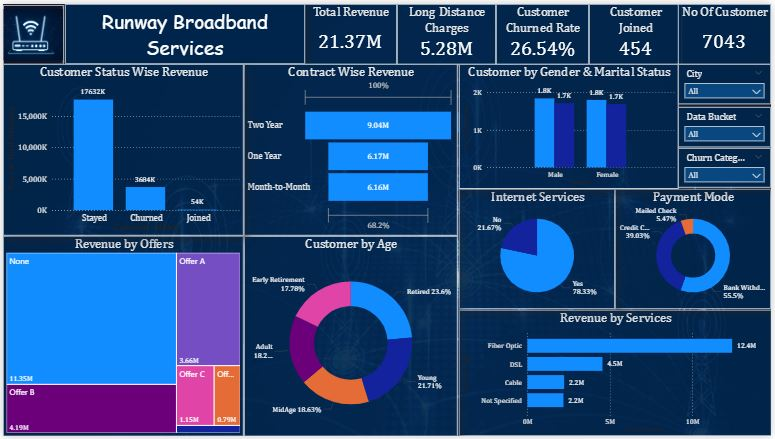

What the dashboard file says about the page in this screenshot:
{"tool":"powerbi","page":{"name":"Sales","canvas":[1280,720],"ordinal":0},"visuals":[{"type":"textbox","box":[102.5,0,400,100],"z":0,"group":"g1"},{"type":"card","title":"Total Revenue","fields":{"Values":["Sum(Original.Total Revenue)"]},"box":[502.3,0,154.5,100.8],"z":0},{"type":"card","title":"Long Distance Charges","fields":{"Values":["Sum(Original.Total Long Distance Charges)"]},"box":[656.8,0,164.6,100.8],"z":1000},{"type":"image","box":[0,1.7,100.8,99.1],"z":1000,"group":"g1"},{"type":"card","title":"Customer Churned Rate","fields":{"Values":["Data.Churned Customer"]},"box":[821.4,0,154.5,100.8],"z":2000},{"type":"card","title":"Customer Joined","fields":{"Values":["Data.New Joined"]},"box":[976,0,154.5,100.8],"z":3000},{"type":"group","id":"g1","title":"Group 1","box":[0,0,502.5,100.8],"z":4000},{"type":"barChart","title":"Revenue by Services","fields":{"Category":["Original.Internet Type"],"Y":["Sum(Original.Total Revenue)"]},"box":[759.3,510,520.7,210],"z":5000},{"type":"donutChart","title":"Payment Mode","fields":{"Category":["Original.Payment Method"],"Y":["CountNonNull(Original.Customer ID)"]},"box":[1019.6,309.1,260.4,199.9],"z":6000},{"type":"card","title":"No Of Customer","fields":{"Values":["Count(Original.Customer ID)"]},"box":[1125.5,0,154.5,100.8],"z":7000},{"type":"pieChart","title":"Internet Services","fields":{"Y":["CountNonNull(Original.Customer ID)"],"Category":["Original.Internet Service"]},"box":[759.3,309.1,260.4,199.9],"z":8000},{"type":"funnel","title":"Contract Wise Revenue","fields":{"Category":["Original.Contract"],"Y":["Sum(Original.Total Revenue)"]},"box":[401.5,100.8,356.1,285.6],"z":9000},{"type":"treemap","title":"Revenue by Offers","fields":{"Values":["Sum(Original.Total Revenue)"],"Group":["Original.Offer"]},"box":[0,386.4,401.5,334.3],"z":10000},{"type":"donutChart","title":"Customer by Age","fields":{"Category":["Original.AgeGroup"],"Y":["CountNonNull(Original.Customer ID)"]},"box":[401.5,386.4,356.1,334.3],"z":11000},{"type":"clusteredColumnChart","title":"Customer by Gender & Marital Status","fields":{"Category":["Original.Gender"],"Y":["CountNonNull(Original.Customer ID)"],"Series":["Original.Married"]},"box":[759.3,100.8,366.2,208.3],"z":12000},{"type":"slicer","fields":{"Values":["Original.City"]},"box":[1125.5,100.8,154.5,67.2],"z":13000},{"type":"slicer","fields":{"Values":["Original.Data Bucket"]},"box":[1125.5,171.3,154.5,67.2],"z":14000},{"type":"slicer","fields":{"Values":["Original.Churn Category"]},"box":[1125.5,240.2,154.5,65.5],"z":15000},{"type":"columnChart","title":"Customer Status Wise Revenue","fields":{"Category":["Original.Customer Status"],"Y":["Sum(Original.Total Revenue)"]},"box":[0,100.8,401.5,285.6],"z":16000}]}

Visuals, with their boxes in screenshot pixels (x1, y1, x2, y2), scaled from the page's 1280x720 canvas onto the 775x439 screenshot:
textbox: (62,0,304,61)
"Total Revenue" card: (304,0,398,61)
"Long Distance Charges" card: (398,0,497,61)
image: (0,1,61,61)
"Customer Churned Rate" card: (497,0,591,61)
"Customer Joined" card: (591,0,684,61)
"Group 1" group: (0,0,304,61)
"Revenue by Services" barChart: (460,311,774,438)
"Payment Mode" donutChart: (617,188,774,310)
"No Of Customer" card: (681,0,774,61)
"Internet Services" pieChart: (460,188,617,310)
"Contract Wise Revenue" funnel: (243,61,459,236)
"Revenue by Offers" treemap: (0,236,243,438)
"Customer by Age" donutChart: (243,236,459,438)
"Customer by Gender & Marital Status" clusteredColumnChart: (460,61,681,188)
slicer - Original.City: (681,61,774,102)
slicer - Original.Data Bucket: (681,104,774,145)
slicer - Original.Churn Category: (681,146,774,186)
"Customer Status Wise Revenue" columnChart: (0,61,243,236)
